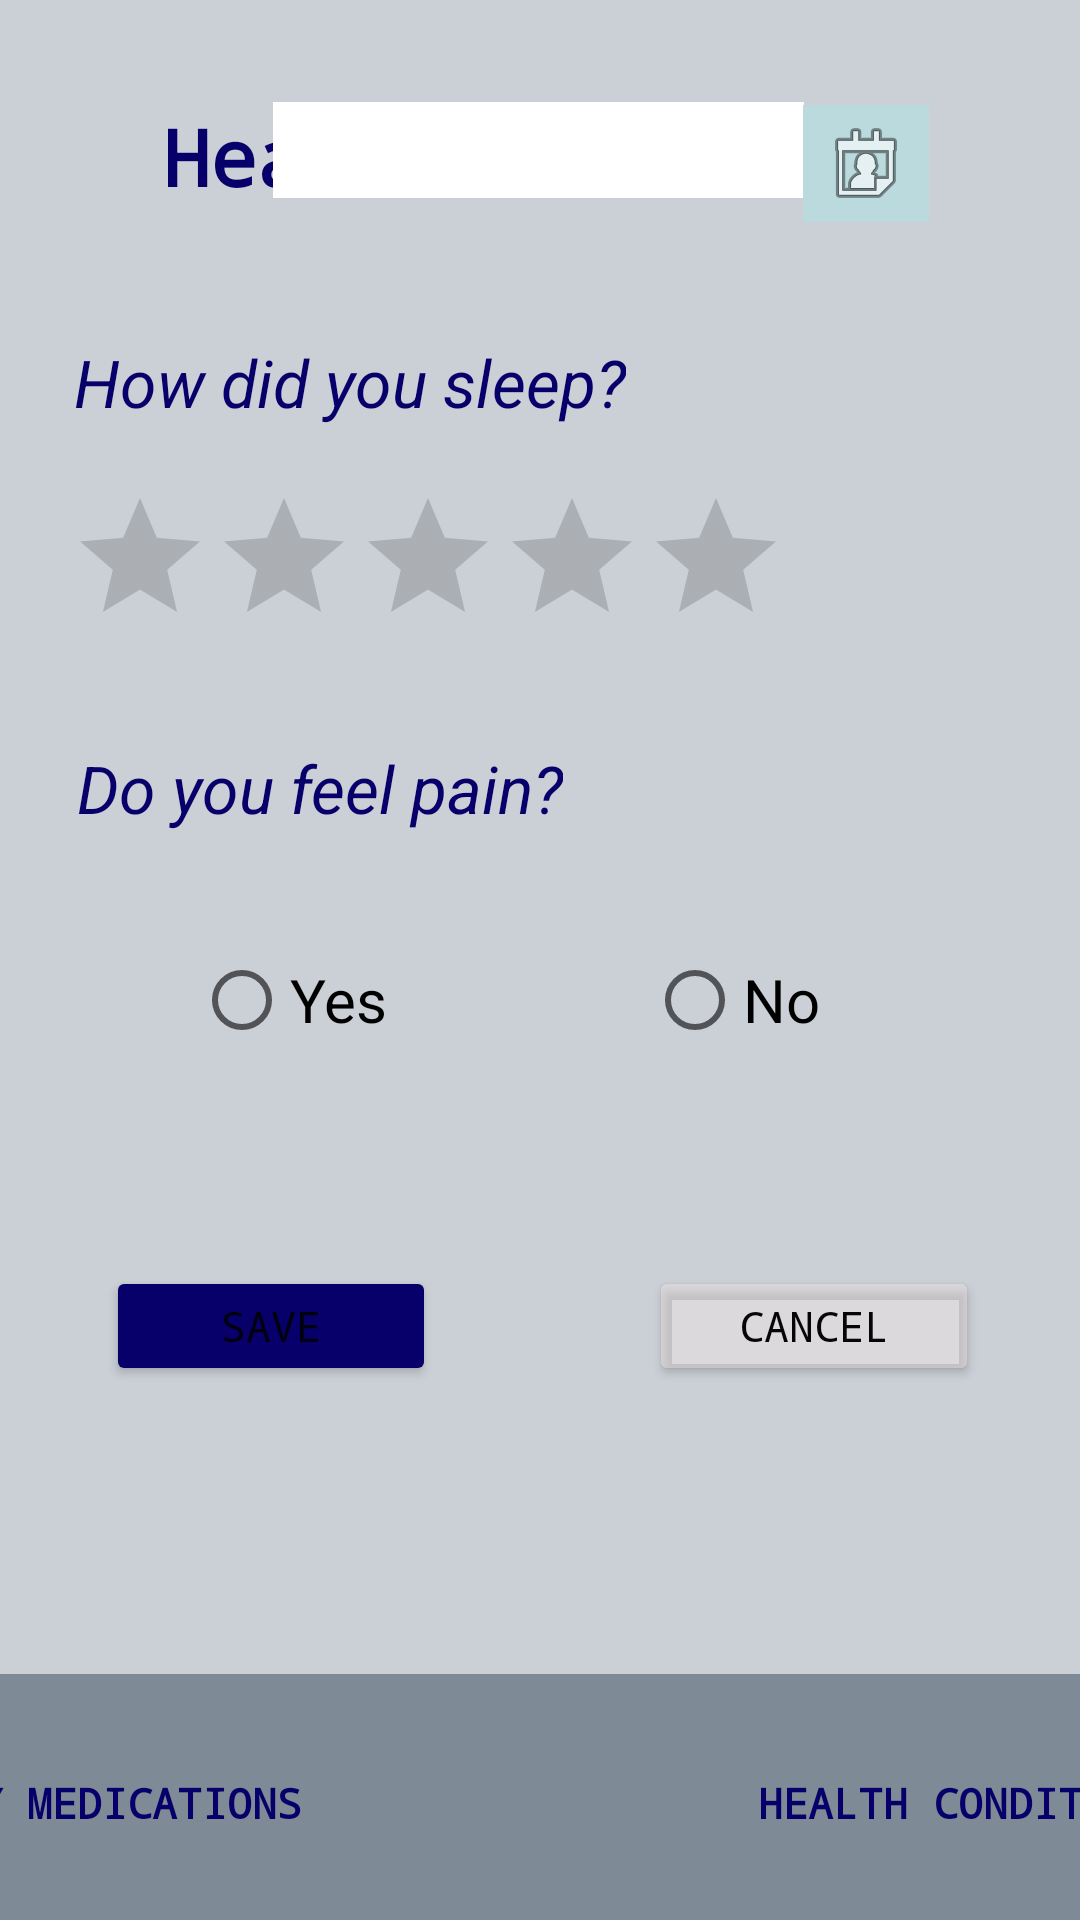

Named icons in this screenshot (1080x1920) and their centers, [x,y]:
calendar: [866,163]
